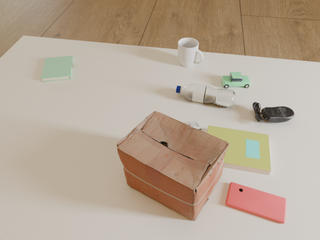book: (207, 126, 271, 175), (41, 56, 73, 82)
bottle: (176, 84, 236, 107)
box: (117, 111, 230, 221)
cup: (178, 38, 203, 67)
mouse: (253, 102, 294, 123)
phone: (226, 182, 286, 224)
toy_car: (222, 72, 251, 88), (185, 122, 202, 130)
